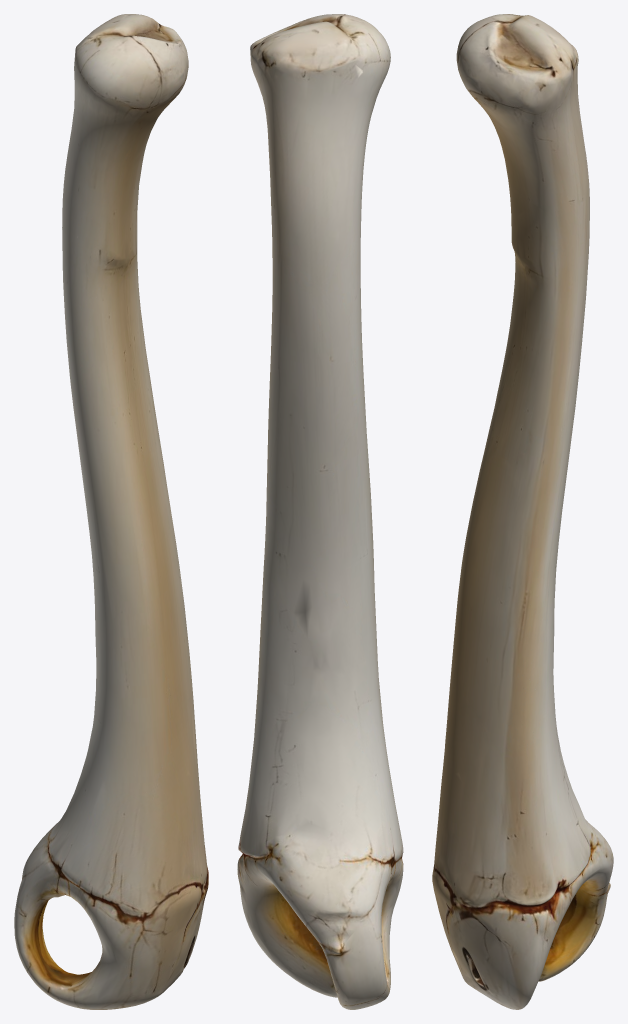
The model's file is ulna.glb.
3 views of the same model, side by side, from view 1: azimuth 30°, elevation 25°; view 2: azimuth 150°, elevation 25°; view 3: azimuth 270°, elevation 25° (orthographic).
Parts seen in each view (by area): view 1: ulna; view 2: ulna; view 3: ulna.
Boxes of the visible parts, x1=… form: ulna: x1=14, y1=14, x2=208, y2=1009; ulna: x1=237, y1=14, x2=403, y2=1009; ulna: x1=432, y1=14, x2=613, y2=1009.
Bounding box in the file's own units: 0.1726 × 1 × 0.1674.
Materials: 1 (1 with a texture image).
